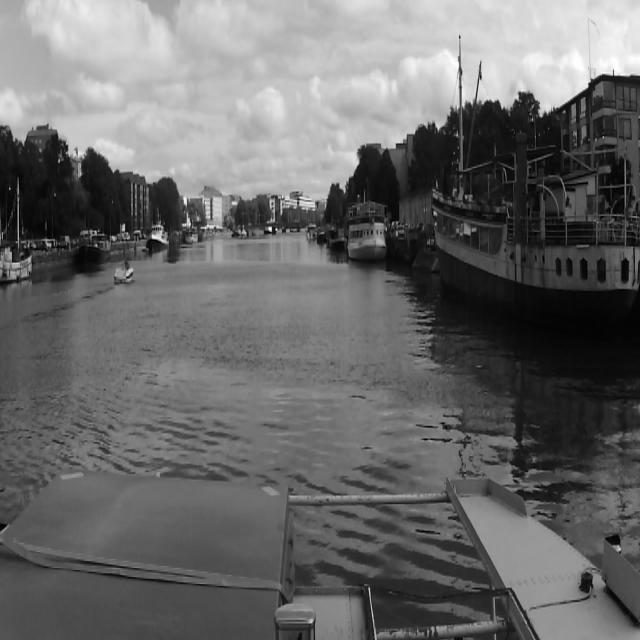ship: (419, 135, 640, 349), (0, 174, 32, 284), (348, 191, 386, 261), (148, 220, 166, 255), (116, 255, 134, 283)
